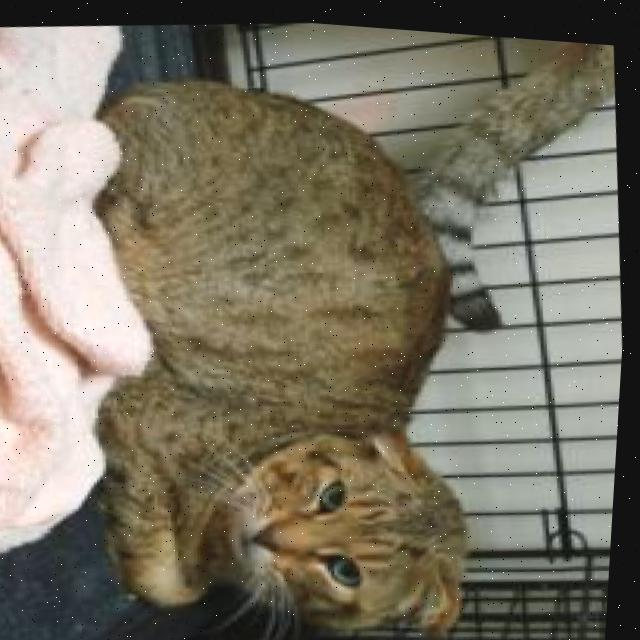Bengal: (43, 38, 520, 640)
